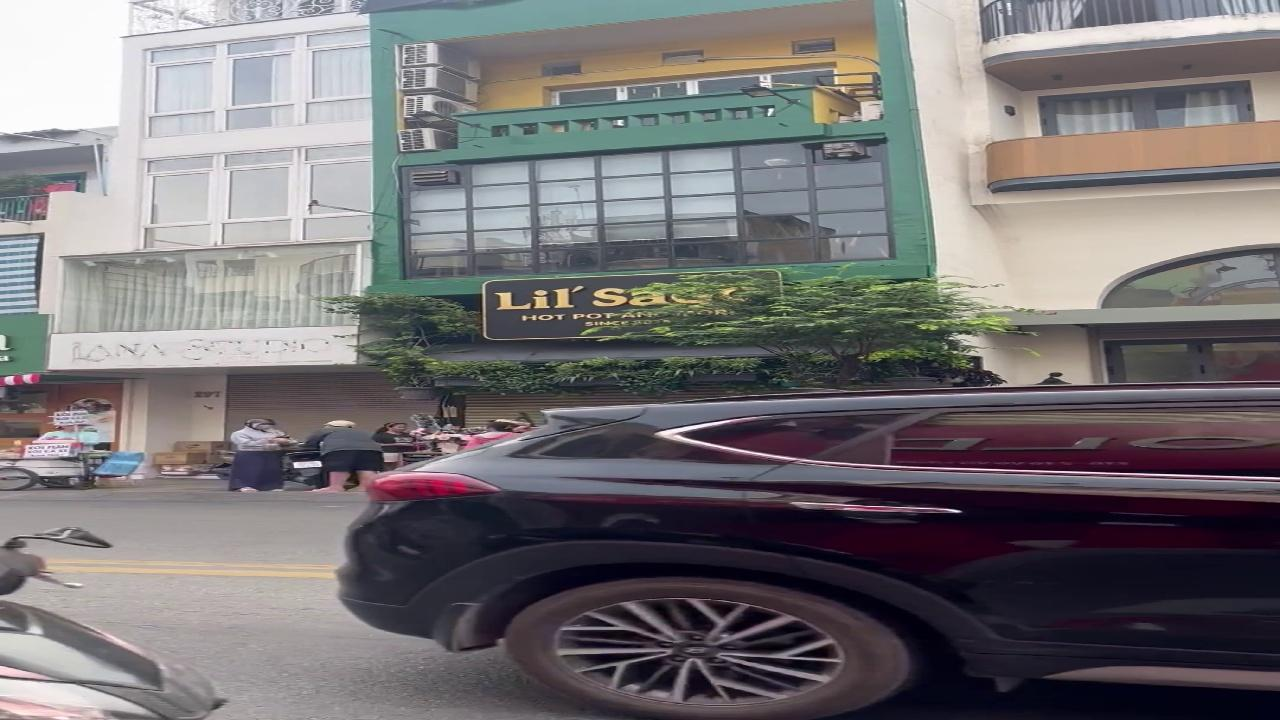Motor: (0, 601, 224, 719)
